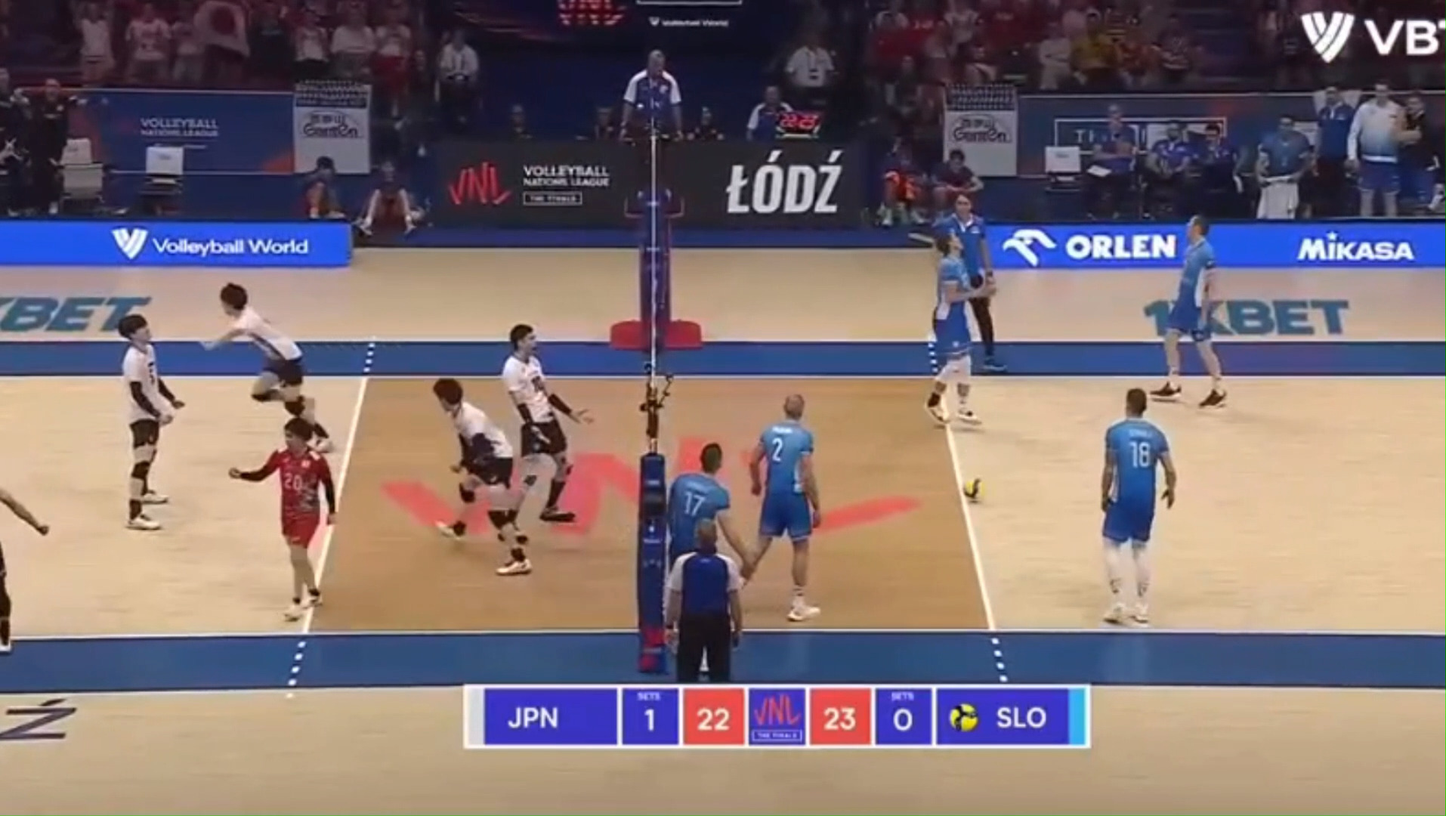ball: (962, 478, 981, 500)
player: (1101, 388, 1176, 624), (744, 394, 821, 622), (1150, 215, 1226, 407), (926, 231, 988, 424), (668, 443, 731, 560), (720, 518, 743, 555)
player 1: (228, 417, 335, 620), (202, 283, 330, 452), (432, 378, 531, 575), (501, 324, 590, 522), (117, 314, 184, 530), (499, 555, 529, 574)
referee: (665, 521, 742, 682), (619, 50, 685, 219), (939, 192, 993, 284), (971, 295, 1004, 371)
